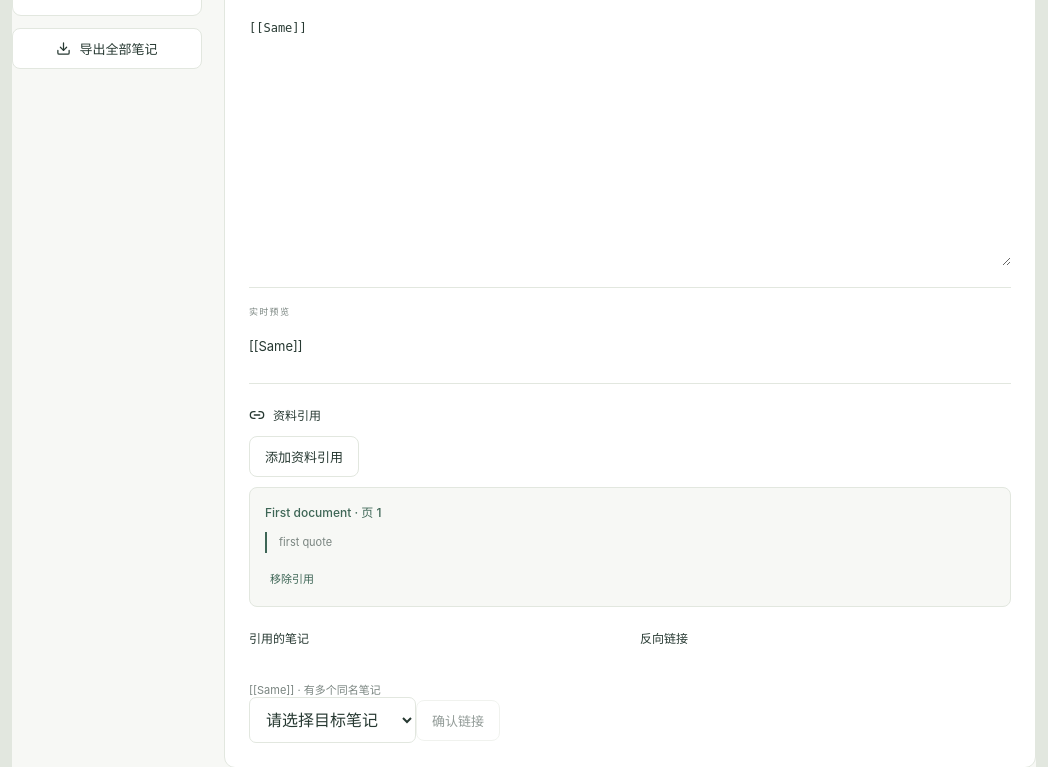
preserves edits made while a link binding request is pending
(page scrolled)
Select "Same · 空白笔记" in the dropdown named "为 [ [Same]] 选择目标笔记" at (332, 720), box 249,697 -> 416,743
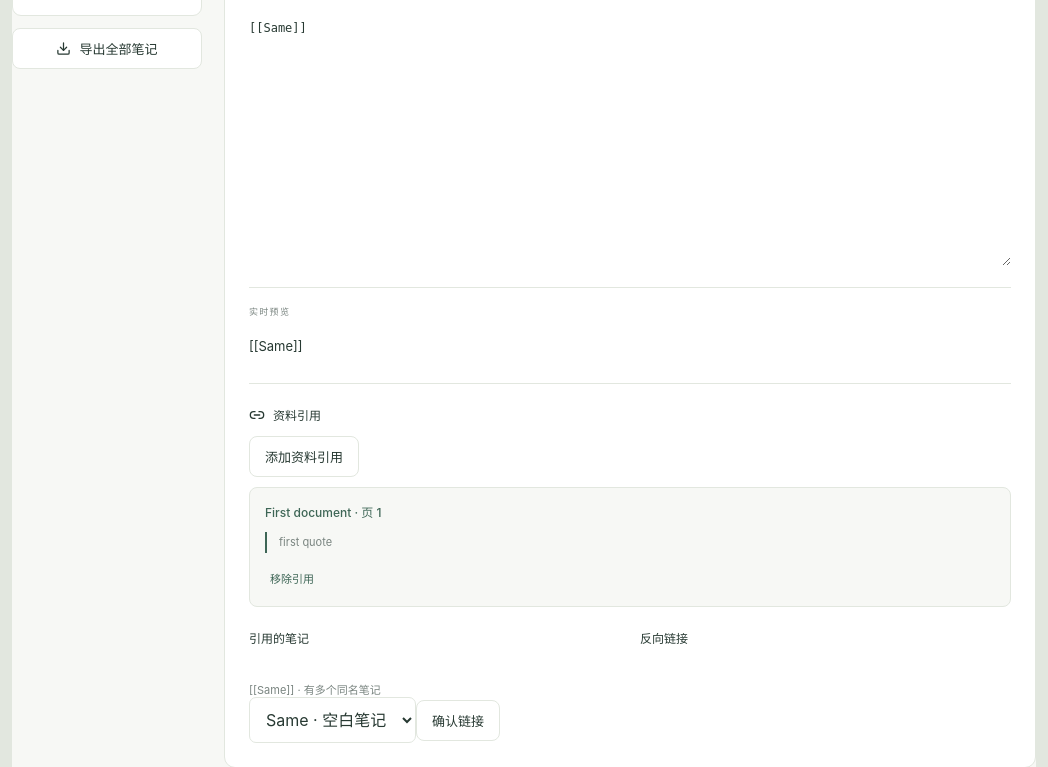
Click the button named "确认链接 [ [Same]]".
click(458, 721)  # box 416,700 -> 500,741
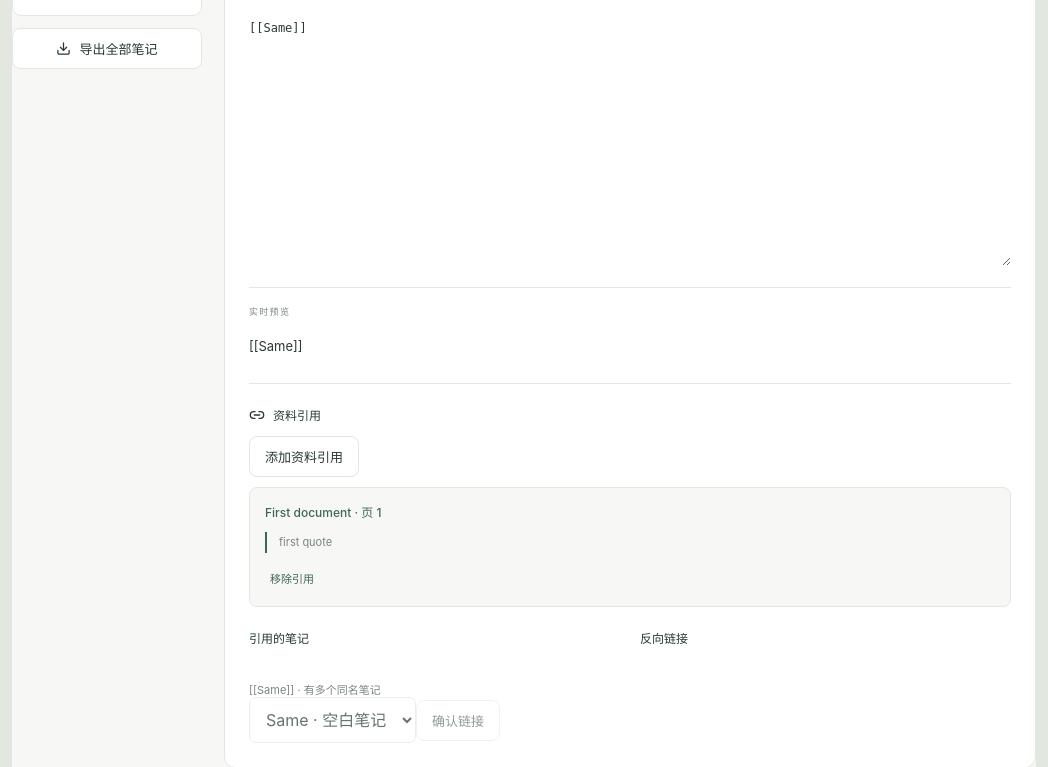
Replace the text in the text box named "Markdown 内容" with "New edits [ [Same]]" at (630, 141), box 249,16 -> 1011,266
(page scrolled)
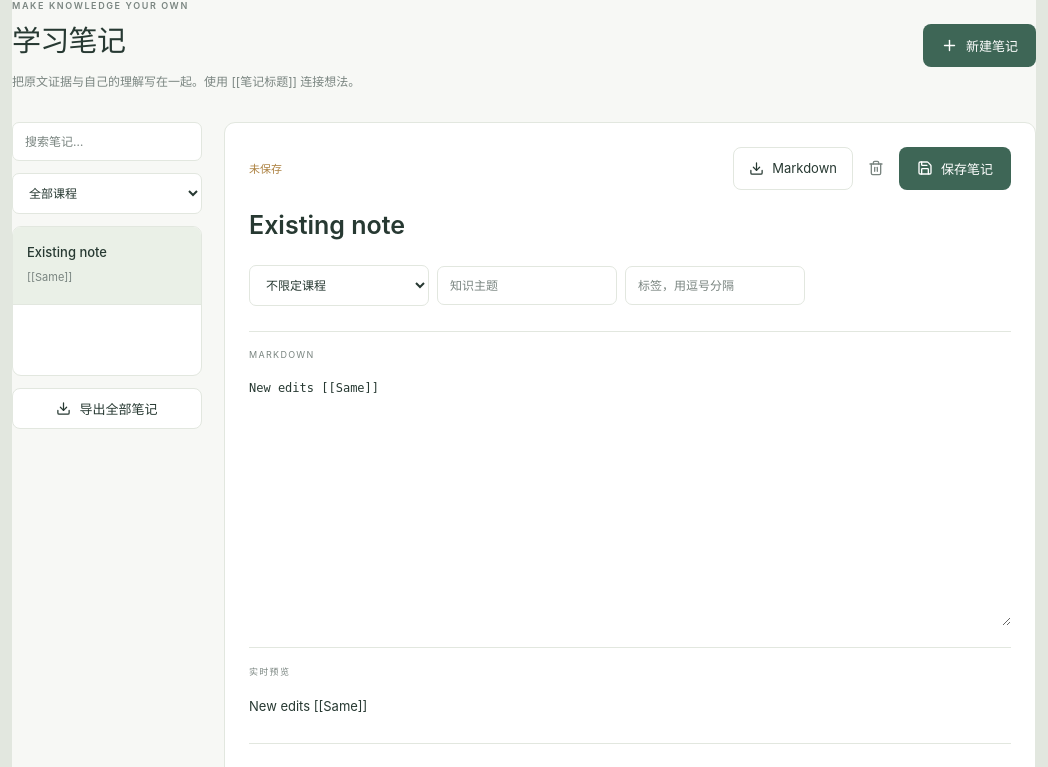
Check: the text "未保存" is shown, box 249,160 -> 282,176
